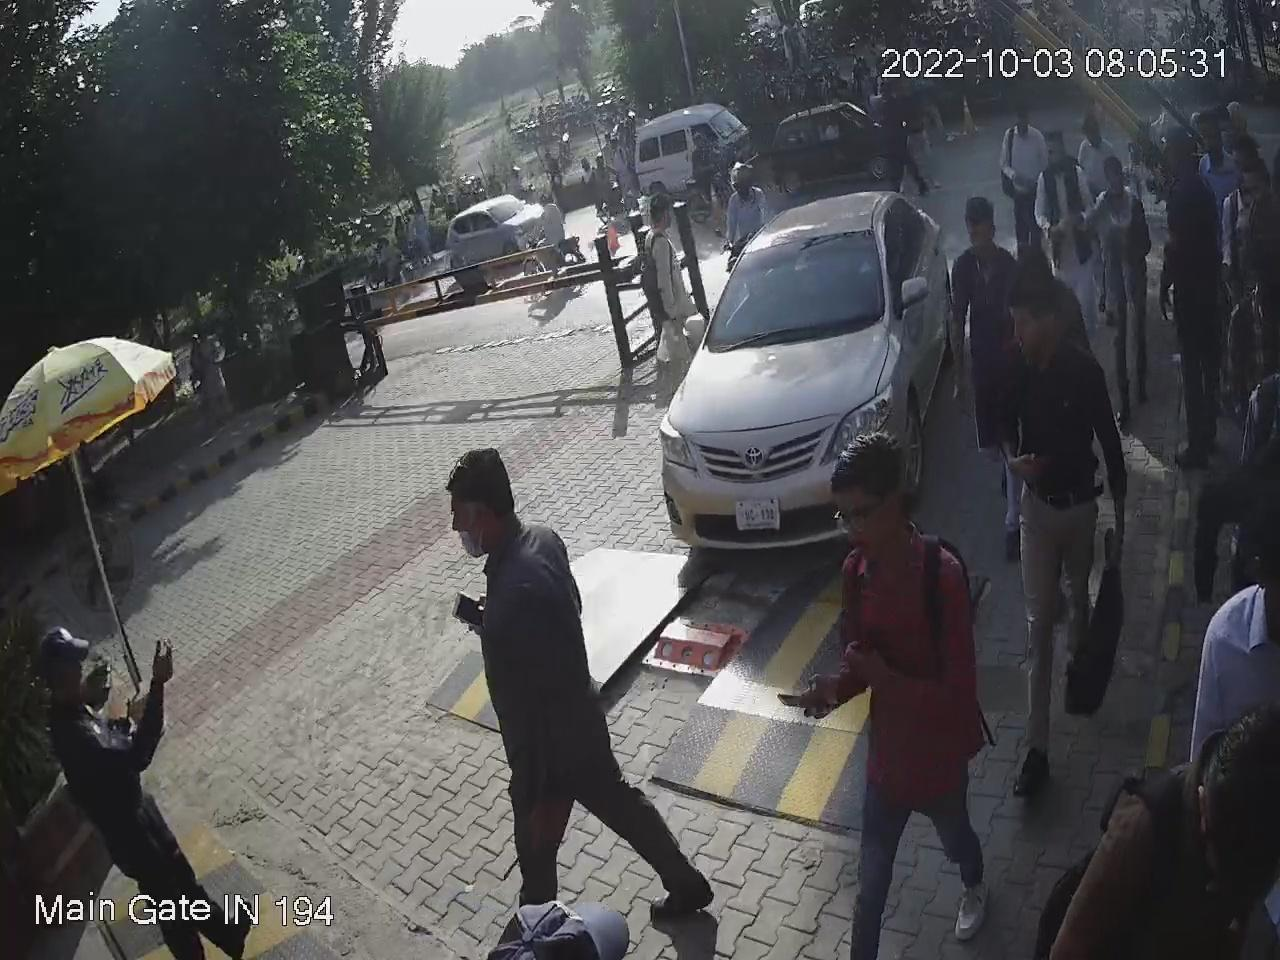windshield: (706, 198, 885, 355)
